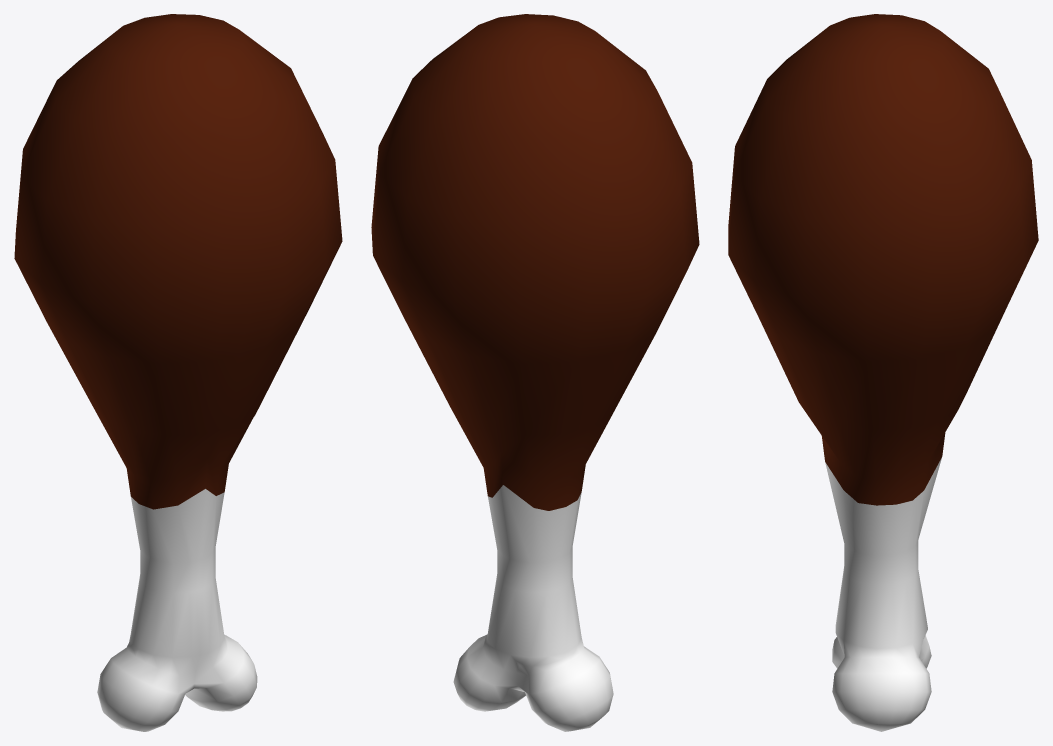
Rendered from Kylling.FBX.
3 renders of one model, left to right at view 1: azimuth 30°, elevation 25°; view 2: azimuth 150°, elevation 25°; view 3: azimuth 270°, elevation 25°, orthographic.
Visible parts, largest first — view 1: Sphere003; view 2: Sphere003; view 3: Sphere003.
Boxes of the visible parts, <box> form: Sphere003: <box>14,14,342,731</box>; Sphere003: <box>371,14,699,731</box>; Sphere003: <box>728,14,1038,731</box>.
Bounding box in the file's own units: 25.19 × 57.68 × 23.82.
